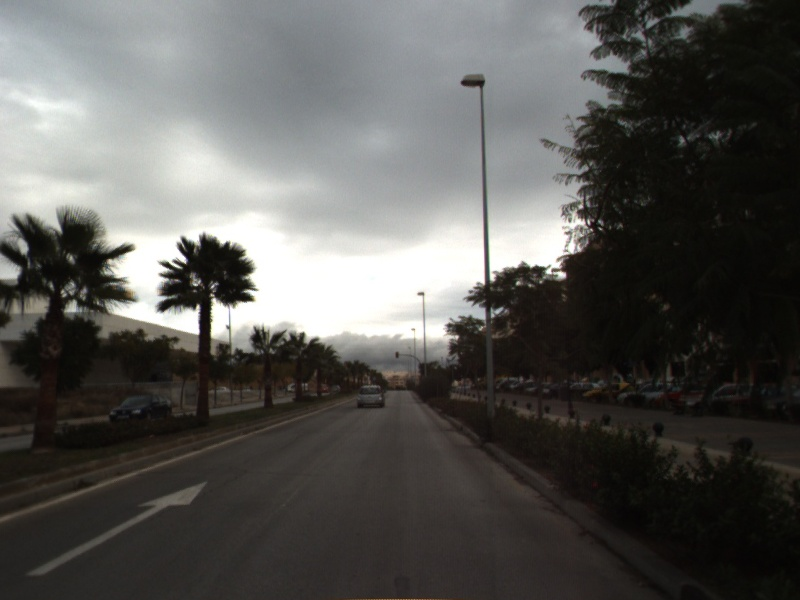STRAIGHT: (22, 478, 210, 578)
